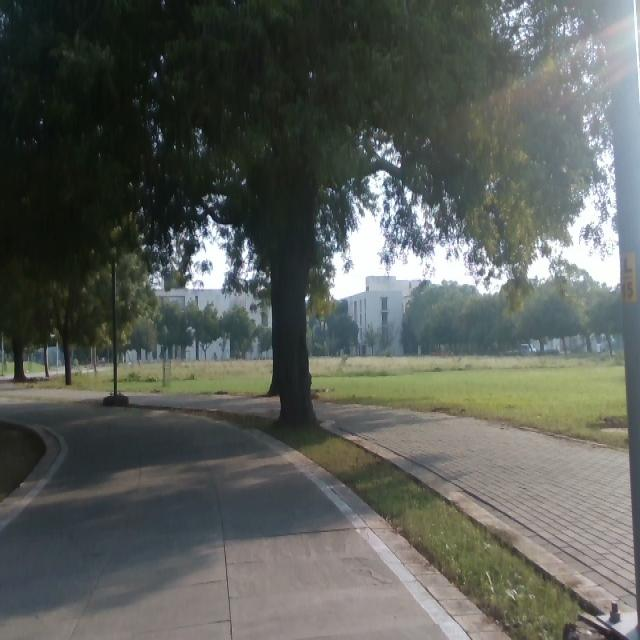lane: (3, 401, 445, 635)
